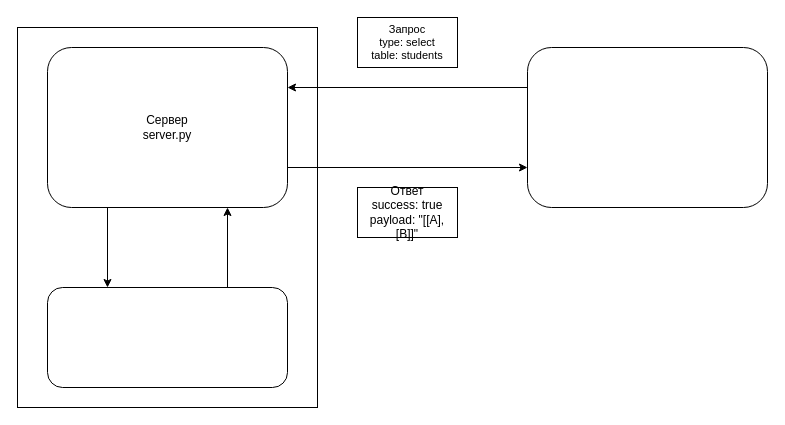
Some shapes in this 785 by 425 pixel diagram are drawn without their labels. Here are the shapes that lost their labels. From the top down, the box of each, then its label:
(526, 46, 768, 208): Клиент
(46, 286, 288, 388): Хранилище данных (SQLite)
